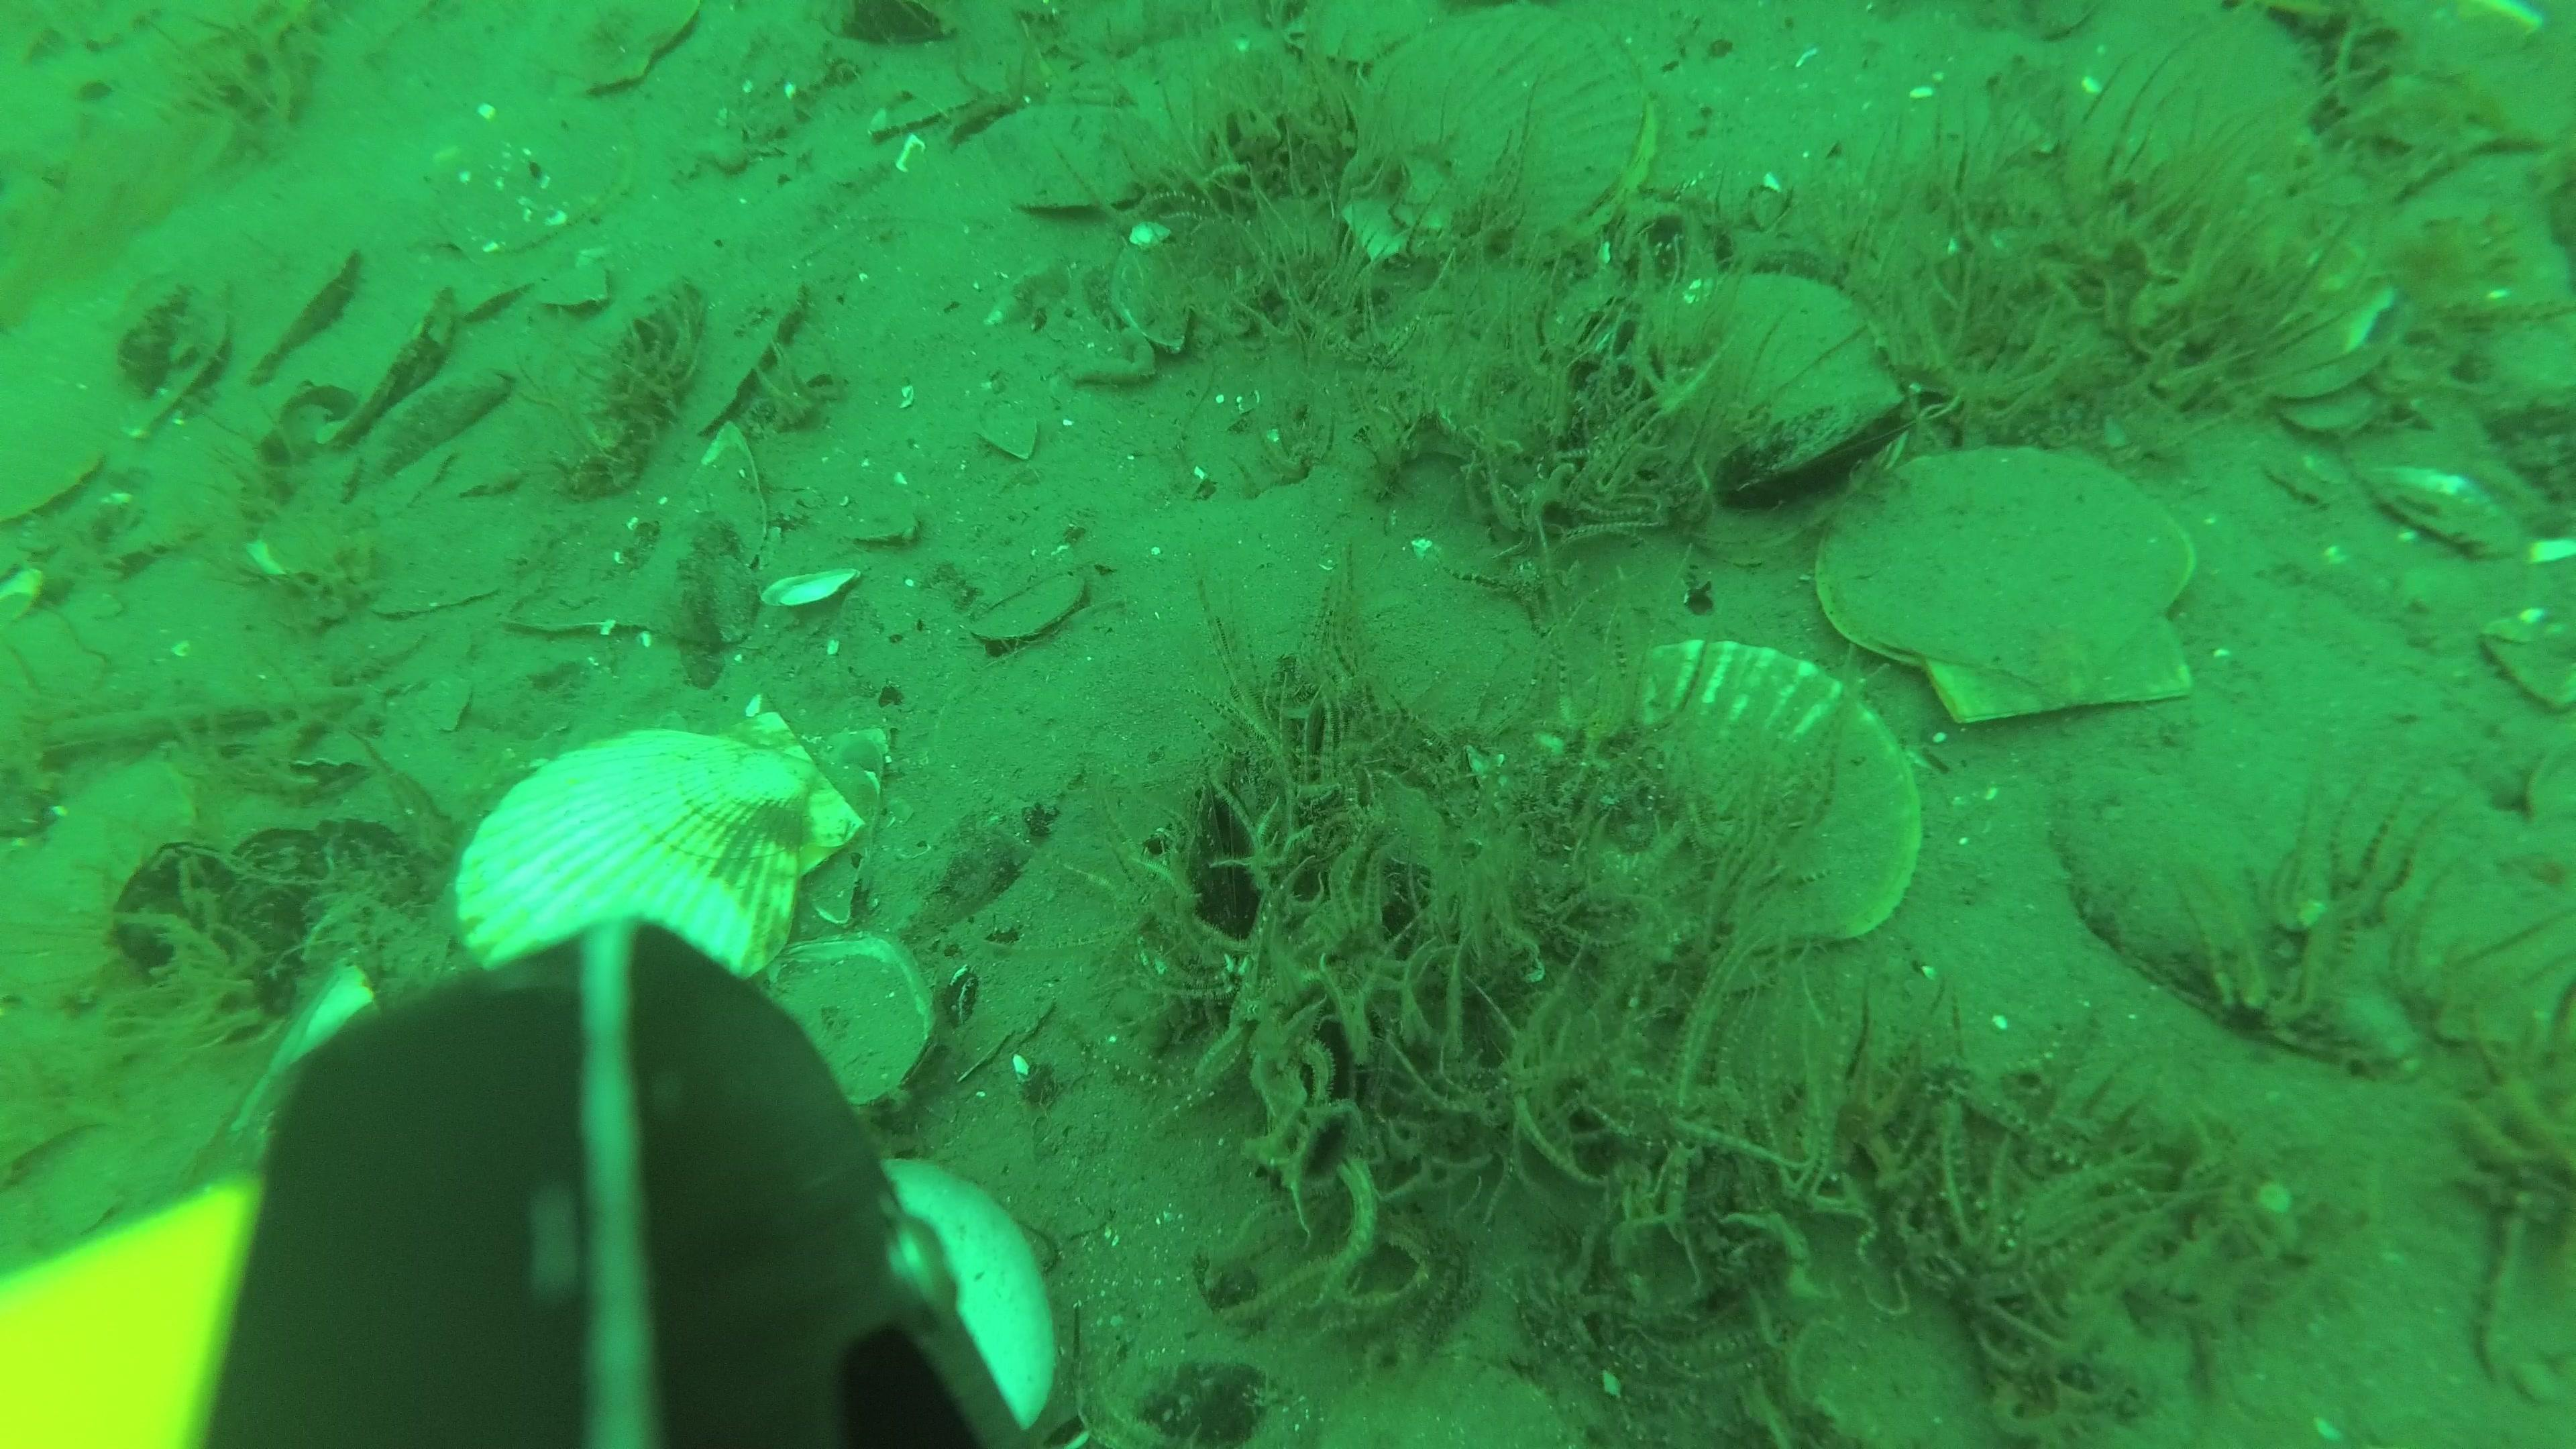scallop: (1516, 640, 1925, 948), (441, 697, 858, 994), (1803, 433, 2204, 731), (1345, 0, 1670, 258), (1619, 278, 1920, 520), (2063, 4, 2341, 216), (580, 4, 706, 97)
